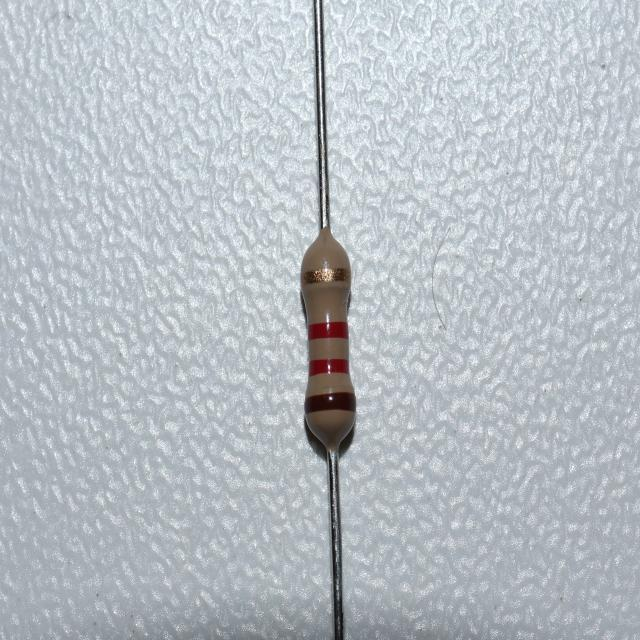resistor: (299, 236, 358, 447)
